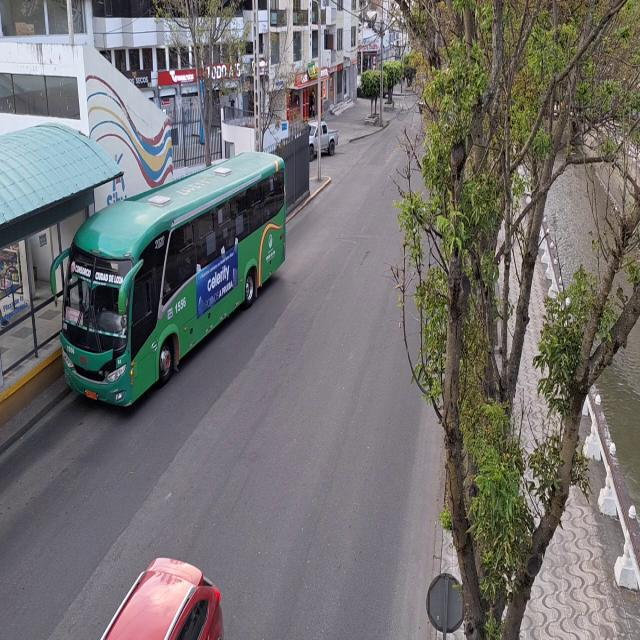BUS: (61, 156, 282, 411)
